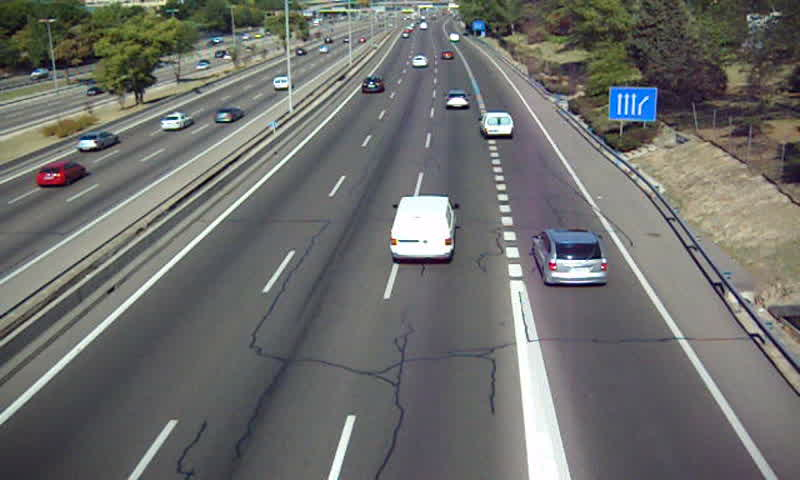car: (535, 231, 606, 285), (442, 90, 472, 110), (361, 76, 384, 95), (410, 53, 429, 68)
van: (390, 197, 455, 260), (479, 112, 514, 140)
